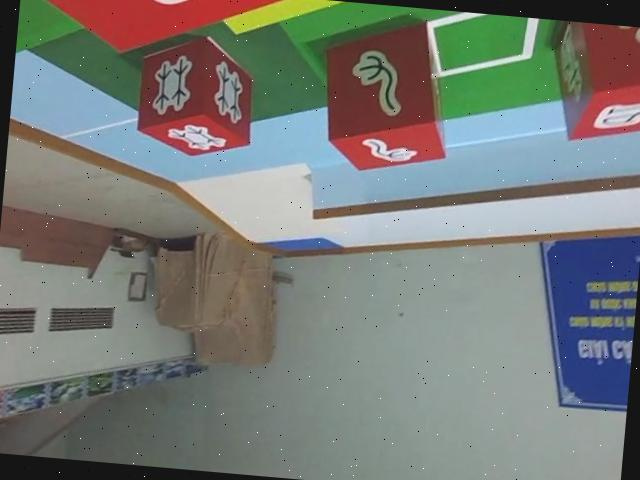R2 Real: (313, 8, 460, 181), (132, 31, 261, 163), (543, 19, 640, 150)
